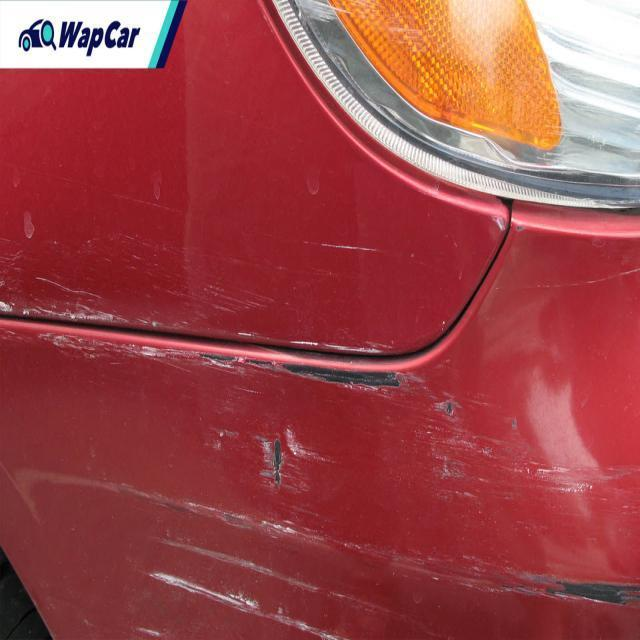scratch: (95, 394, 636, 636), (19, 246, 458, 394)
